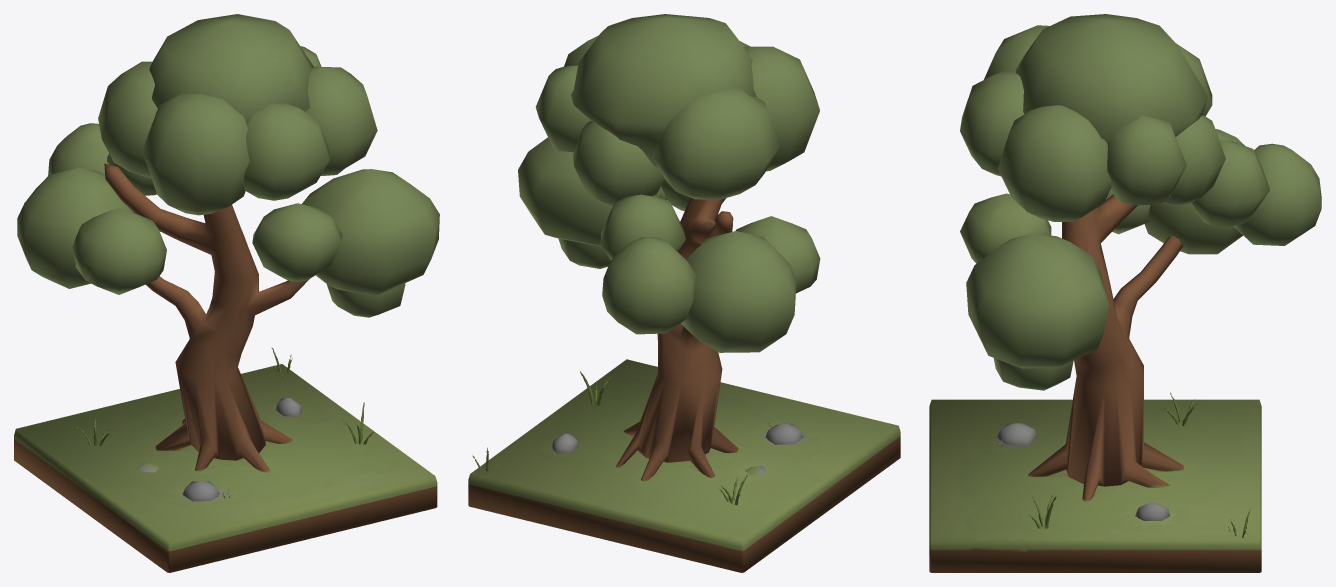
Rendered from selected.glb.
3 renders of one model, left to right at view 1: azimuth 30°, elevation 25°; view 2: azimuth 150°, elevation 25°; view 3: azimuth 270°, elevation 25°, orthographic. The views are drawn at different scales.
Visible parts, largest first — view 1: tripo_node_ca223195-13b5-4771-8146-21a3c8a08db1; view 2: tripo_node_ca223195-13b5-4771-8146-21a3c8a08db1; view 3: tripo_node_ca223195-13b5-4771-8146-21a3c8a08db1.
Boxes of the visible parts, x1,y1,x2,y2 form: tripo_node_ca223195-13b5-4771-8146-21a3c8a08db1: (14,14,439,572); tripo_node_ca223195-13b5-4771-8146-21a3c8a08db1: (468,14,900,572); tripo_node_ca223195-13b5-4771-8146-21a3c8a08db1: (929,14,1321,572).
Bounding box in the file's own units: 0.7637 × 0.998 × 0.7285.
Materials: 1 (1 with a texture image).
